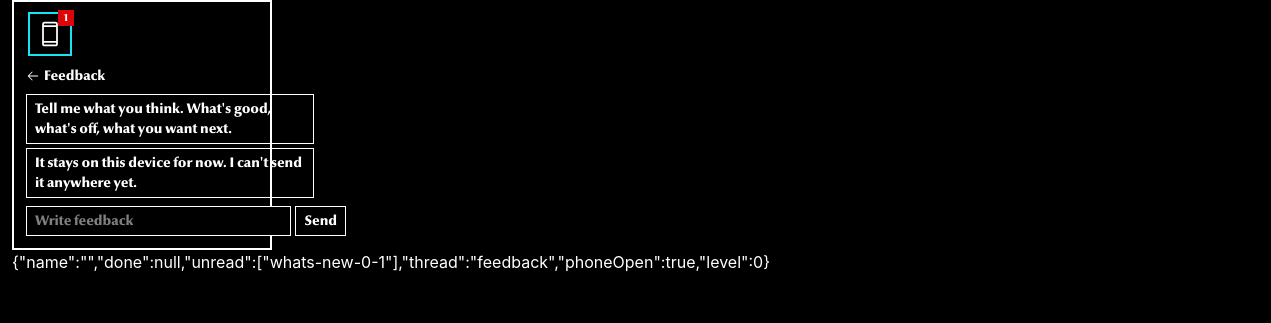
it: PhoneWidget › feedback › takes what the player writes and keeps it in the thread
Type "More rain, please" into the field labelled "Write feedback".
click(159, 221); type("More rain, please")  # box 26,206 -> 292,236
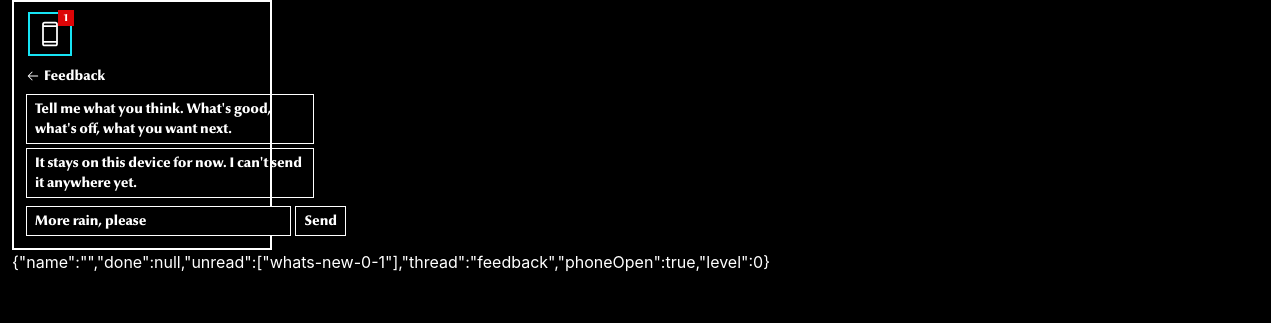
Submit the form named "Write feedback", box 26,206 -> 346,236
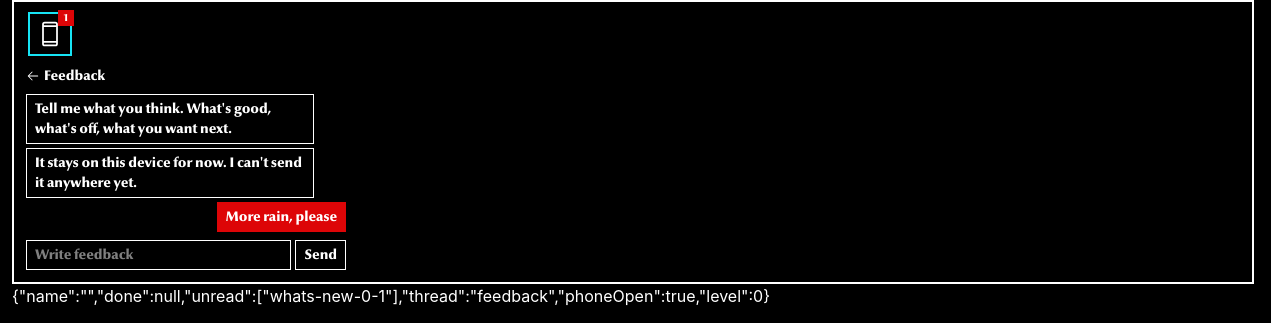
Check: the text "More rain, please" is shown, box 217,202 -> 346,232
Check: the field labelled "Write feedback" is empty, box 26,240 -> 292,270
